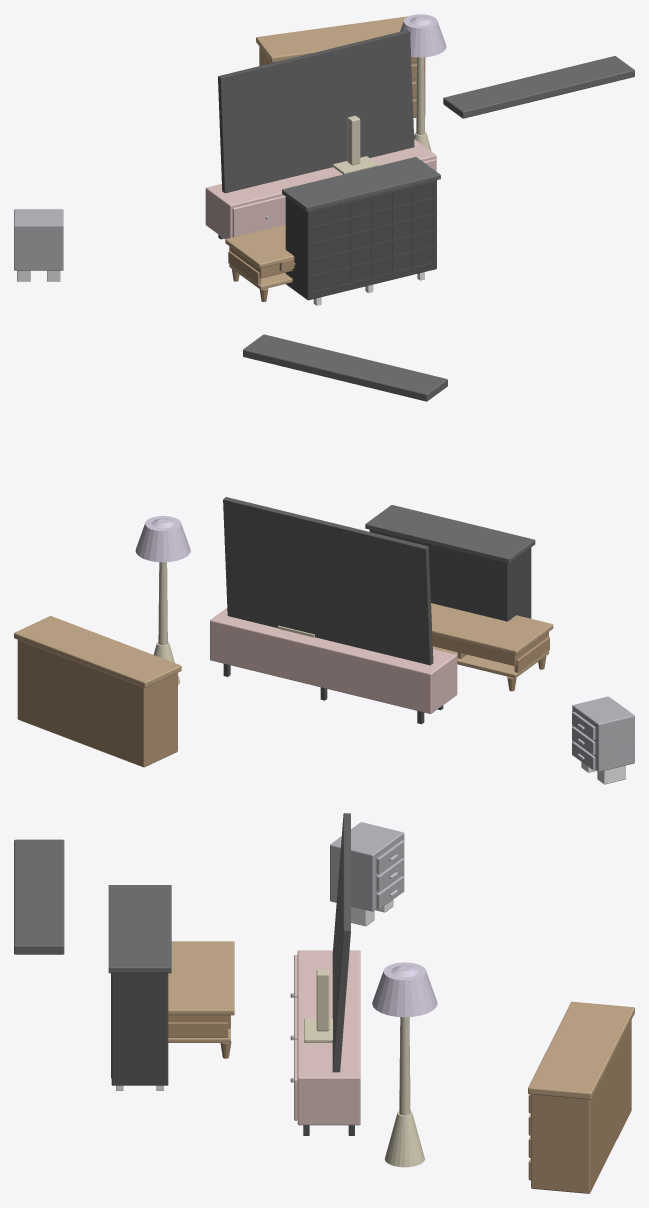
Rendered from agent_scene.glb.
The picture shows the model from 3 angles, top to bottom: view 1: azimuth 30°, elevation 25°; view 2: azimuth 150°, elevation 25°; view 3: azimuth 270°, elevation 25°; orthographic projection. The views are drawn at different scales.
Visible parts, largest first — view 1: tc_screen, wc_body, sh_board, wc_top, tc_body, dr_top, ns_body, ct_top, tc_p0, fl_shade, fl_stem, tc_gp (+9 smaller); view 2: tc_screen, dr_body, tc_body, wc_body, sh_board, dr_top, wc_top, ct_top, ns_body, fl_shade, ct_frame, ct_shelf (+1 smaller); view 3: dr_body, tc_body, wc_body, dr_top, sh_board, wc_top, ct_top, tc_screen, ns_body, fl_shade, fl_base, fl_stem (+3 smaller).
Part boxes in pixels (x1=…): tc_screen: x1=218, y1=30, x2=414, y2=193; wc_body: x1=285, y1=180, x2=436, y2=300; sh_board: x1=443, y1=56, x2=634, y2=118; wc_top: x1=282, y1=157, x2=440, y2=211; tc_body: x1=205, y1=139, x2=436, y2=239; dr_top: x1=256, y1=16, x2=407, y2=62; ns_body: x1=14, y1=209, x2=63, y2=270; ct_top: x1=225, y1=224, x2=294, y2=268; tc_p0: x1=232, y1=195, x2=285, y2=237; fl_shade: x1=400, y1=14, x2=446, y2=57; fl_stem: x1=416, y1=57, x2=424, y2=134; tc_gp: x1=347, y1=115, x2=360, y2=165; tc_screen: x1=223, y1=497, x2=433, y2=665; dr_body: x1=17, y1=640, x2=177, y2=767; tc_body: x1=210, y1=608, x2=457, y2=713; wc_body: x1=369, y1=530, x2=531, y2=621; sh_board: x1=243, y1=334, x2=447, y2=401; dr_top: x1=14, y1=616, x2=181, y2=687; wc_top: x1=365, y1=505, x2=535, y2=563; ct_top: x1=431, y1=603, x2=553, y2=655; ns_body: x1=572, y1=696, x2=634, y2=771; fl_shade: x1=135, y1=516, x2=190, y2=562; ct_frame: x1=432, y1=632, x2=548, y2=665; ct_shelf: x1=432, y1=646, x2=549, y2=678; dr_body: x1=531, y1=1020, x2=631, y2=1193; tc_body: x1=297, y1=950, x2=360, y2=1125; wc_body: x1=111, y1=973, x2=168, y2=1085; dr_top: x1=528, y1=1001, x2=634, y2=1099; sh_board: x1=14, y1=839, x2=64, y2=954; wc_top: x1=108, y1=885, x2=171, y2=973; ct_top: x1=168, y1=941, x2=234, y2=1015; tc_screen: x1=332, y1=813, x2=350, y2=1072; ns_body: x1=330, y1=822, x2=404, y2=911; fl_shade: x1=372, y1=962, x2=437, y2=1017; fl_base: x1=384, y1=1111, x2=424, y2=1167; fl_stem: x1=399, y1=1017, x2=410, y2=1115.
Size of the model in its own units: 5.68 by 2.19 by 4.92.
